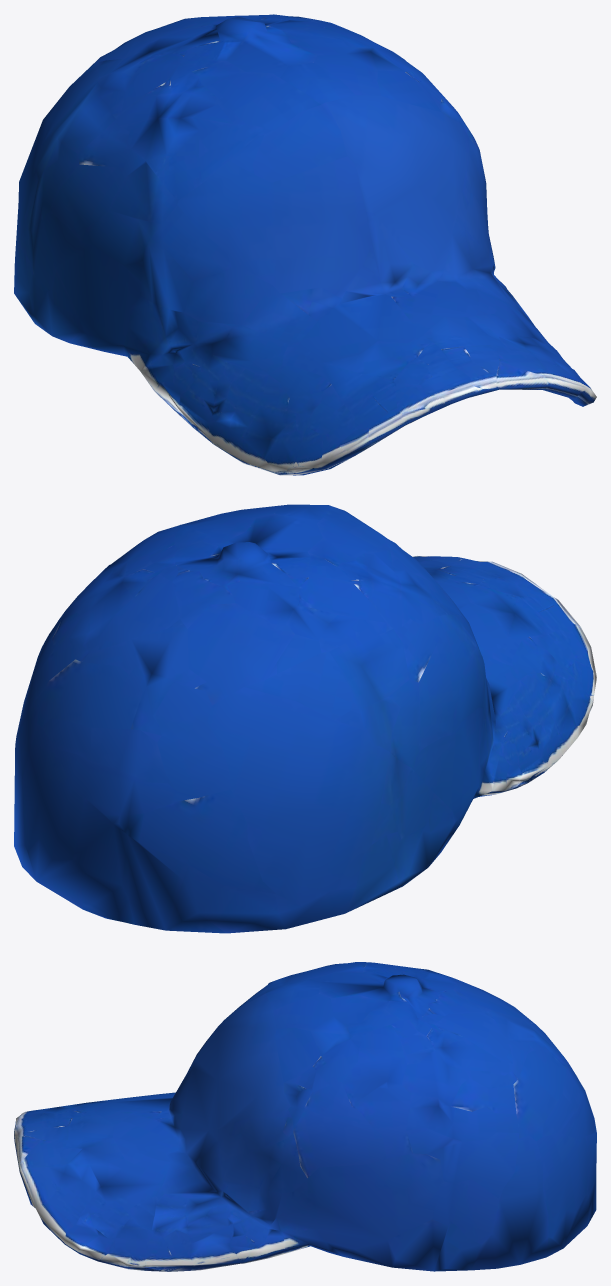
Rendered from cap.glb.
The picture shows the model from 3 angles, top to bottom: view 1: azimuth 30°, elevation 25°; view 2: azimuth 150°, elevation 25°; view 3: azimuth 270°, elevation 25°; orthographic projection. The views are drawn at different scales.
Size of the model in its own units: 1.14 by 0.833 by 1.9.
1 material, 1 textured.
